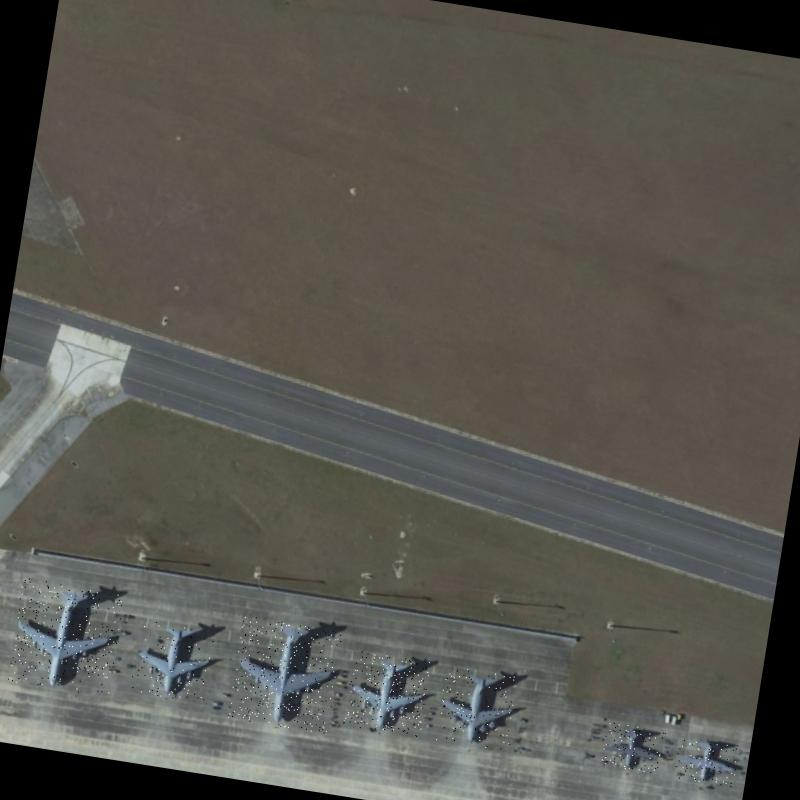A2: (600, 721, 666, 774), (674, 735, 740, 787)
A3: (342, 650, 432, 737), (129, 618, 218, 704), (433, 666, 522, 752)
A4: (7, 577, 125, 697), (227, 615, 343, 734)
